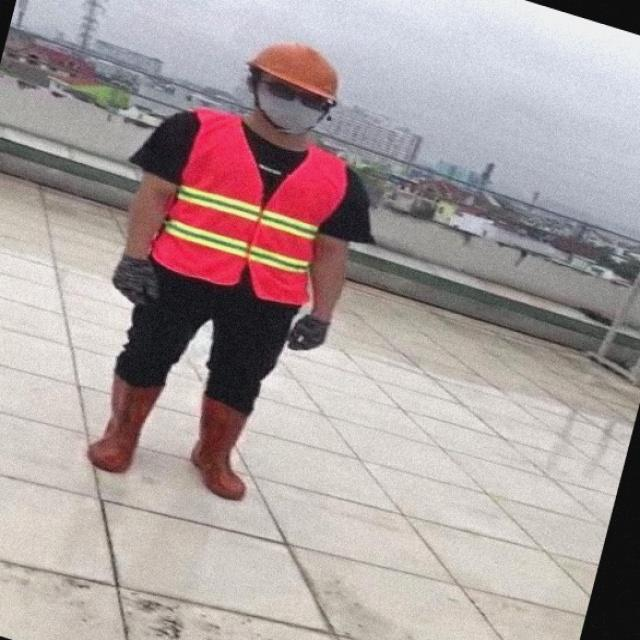helmet: (250, 40, 340, 108)
safety_vest: (139, 112, 363, 307)
